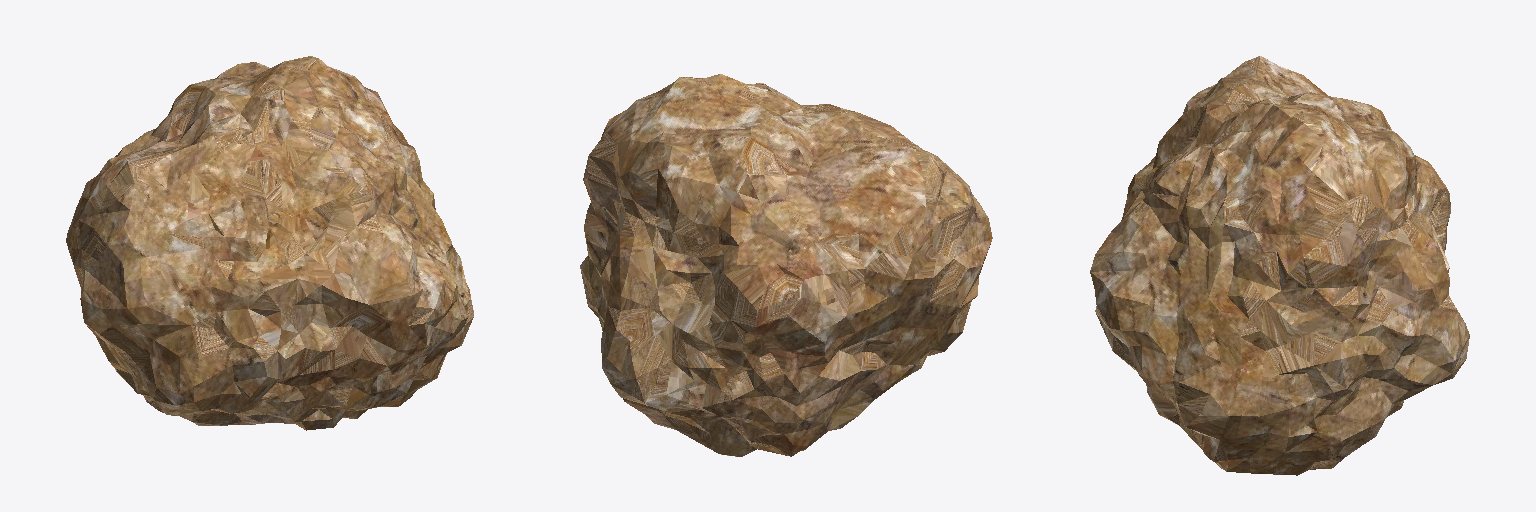
3 views of the same model, side by side, from view 1: azimuth 30°, elevation 25°; view 2: azimuth 150°, elevation 25°; view 3: azimuth 270°, elevation 25° (orthographic).
Visible parts, largest first — view 1: Cube_Cube_Material; view 2: Cube_Cube_Material; view 3: Cube_Cube_Material.
Boxes of the visible parts, x1=… form: Cube_Cube_Material: x1=66, y1=56, x2=473, y2=430; Cube_Cube_Material: x1=580, y1=74, x2=992, y2=456; Cube_Cube_Material: x1=1090, y1=56, x2=1469, y2=475.
Bounding box in the file's own units: 1.9 × 1.66 × 1.68.
1 materials, 1 textured.